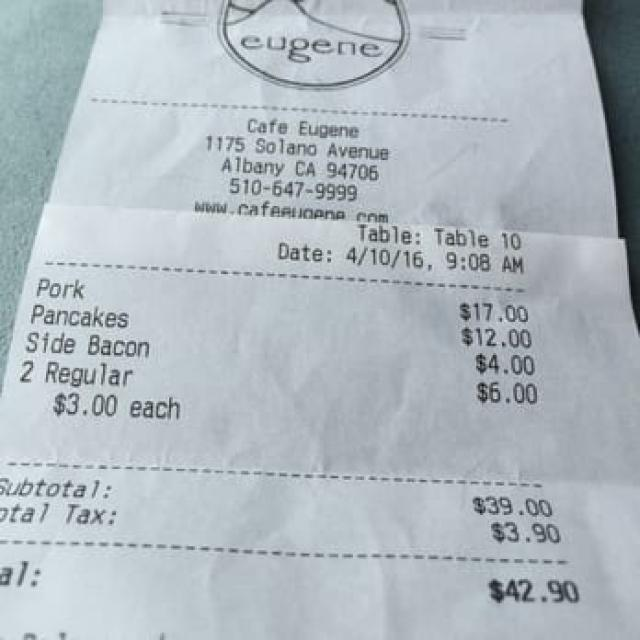TotalPrice: (0, 561, 598, 614)
